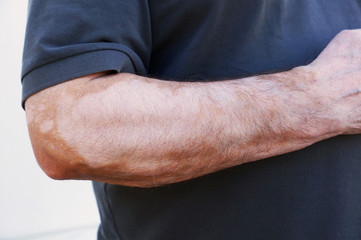vitiligo: (64, 85, 248, 178)
